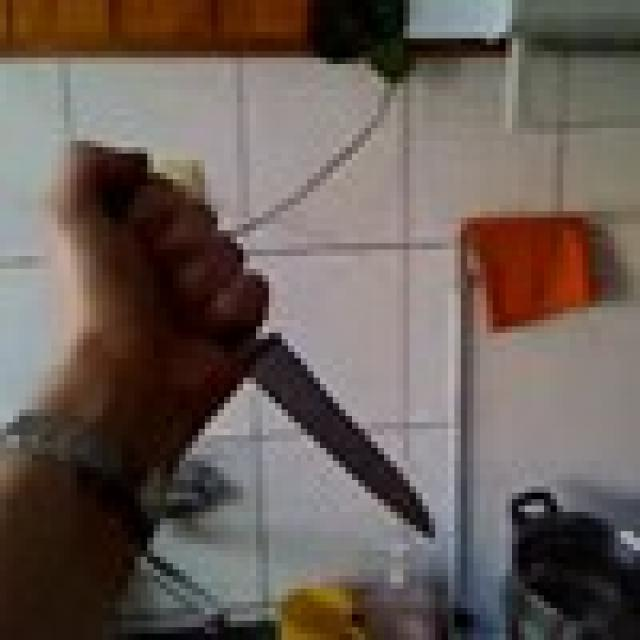Knife: (102, 148, 436, 550)
